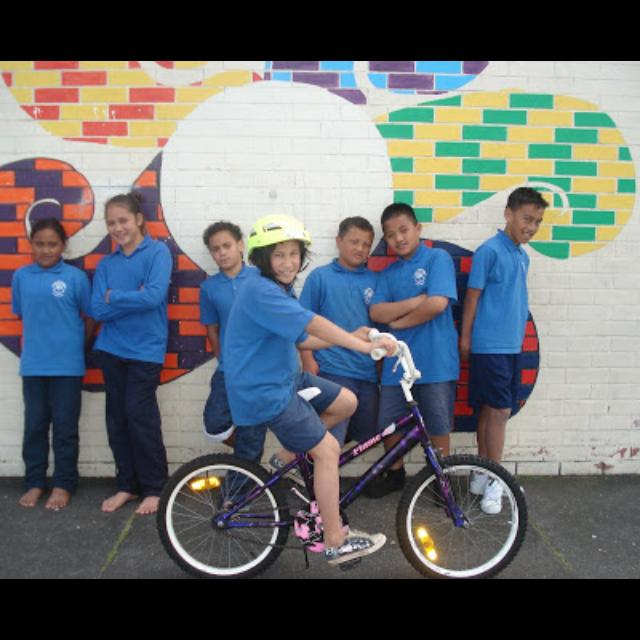With Helmet: (236, 213, 320, 295)
